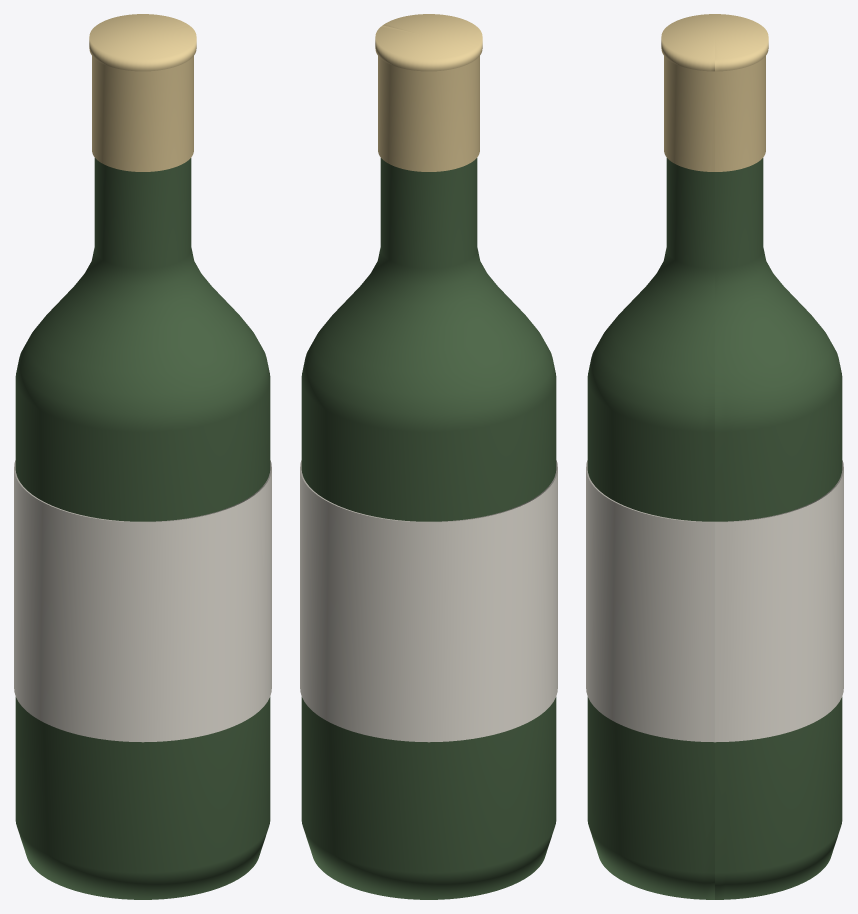
Rendered from champagne.glb.
The picture shows the model from 3 angles, left to right: view 1: azimuth 30°, elevation 25°; view 2: azimuth 150°, elevation 25°; view 3: azimuth 270°, elevation 25°; orthographic projection.
Visible parts, largest first — view 1: dish; view 2: dish; view 3: dish.
Part boxes in pixels (bbox=[...]): dish: bbox=[14, 14, 271, 899]; dish: bbox=[300, 14, 557, 899]; dish: bbox=[586, 14, 843, 899].
Size of the model in its own units: 0.0891 by 0.31 by 0.0891.
